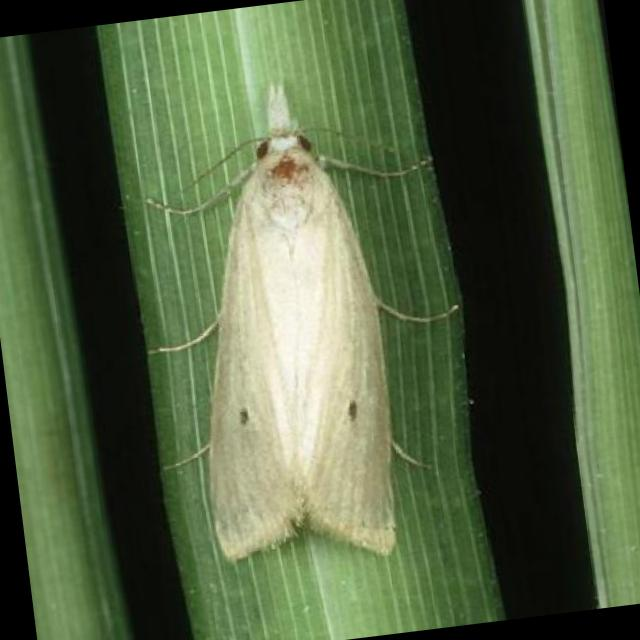stem-borer: (138, 61, 447, 580)
